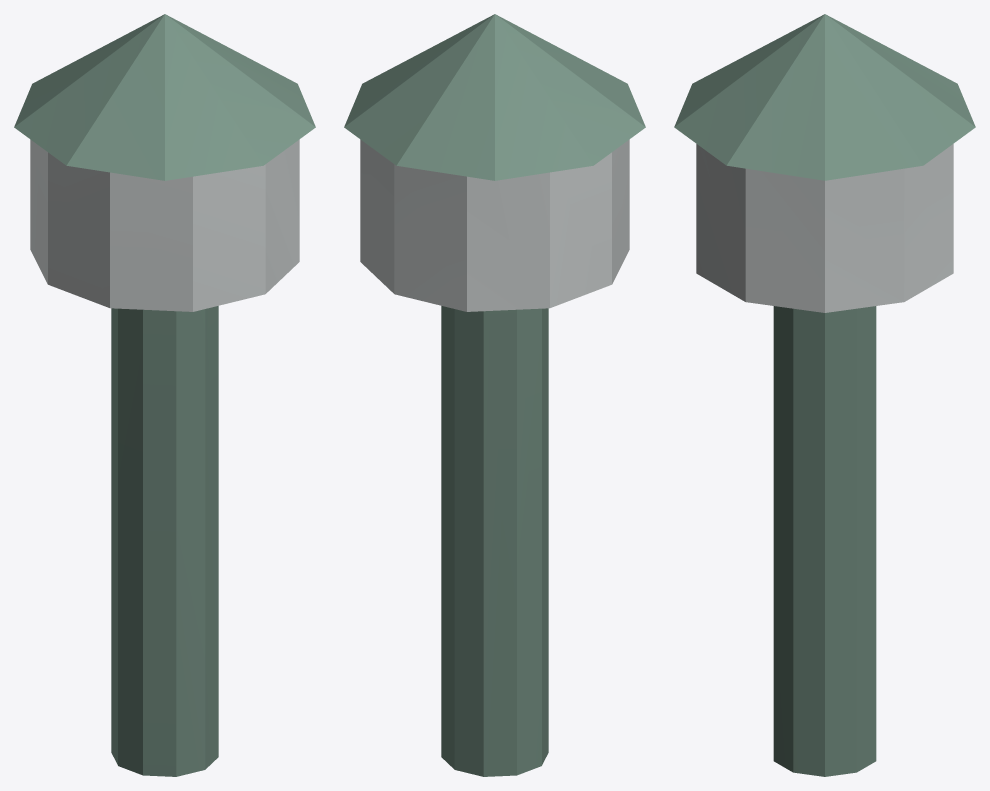
Rendered from lighthouse-03.glb.
3 renders of one model, left to right at view 1: azimuth 30°, elevation 25°; view 2: azimuth 150°, elevation 25°; view 3: azimuth 270°, elevation 25°, orthographic.
Visible parts, largest first — view 1: world; view 2: world; view 3: world.
Part boxes in pixels (x1=…): world: x1=14, y1=14, x2=315, y2=776; world: x1=344, y1=14, x2=645, y2=776; world: x1=674, y1=14, x2=975, y2=776.
Size of the model in its own units: 0.6595 by 1.81 by 0.6697.
